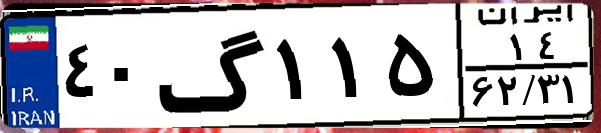0: (110, 28, 156, 98)
1: (270, 28, 330, 110), (330, 28, 385, 110), (560, 70, 590, 125), (508, 27, 537, 80)
2: (495, 70, 520, 125)
3: (535, 70, 560, 125)
4: (57, 26, 110, 100), (537, 27, 568, 80)
5: (385, 28, 445, 110)
6: (470, 70, 495, 125)
گ: (156, 12, 270, 120)
